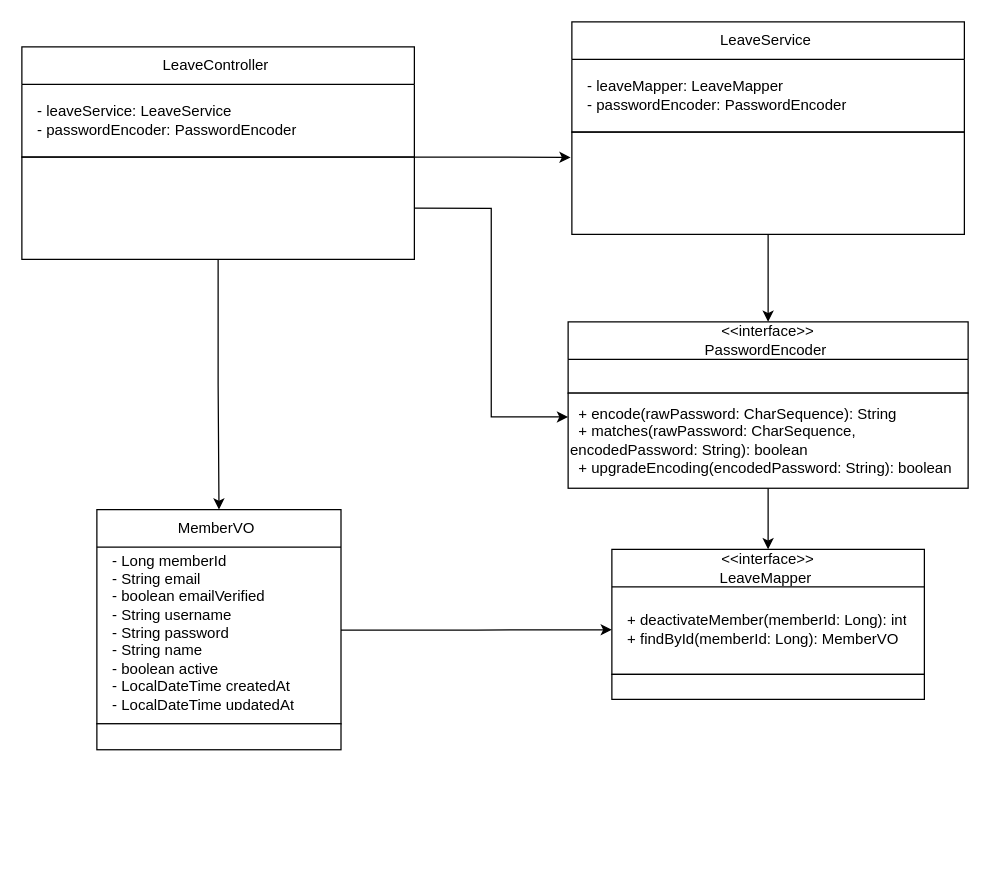
Image size: 990x871. Some labels were removed from this diagram. Each missing label, with the centre of its shape:
"+ deactivateMember(memberId: Long, inputPassword: String): boolean" belongs at (767,182).
"+ leave(request: MemberVO, user: CustomUserDetails): ResponseEntity<?>" belongs at (217,207).
